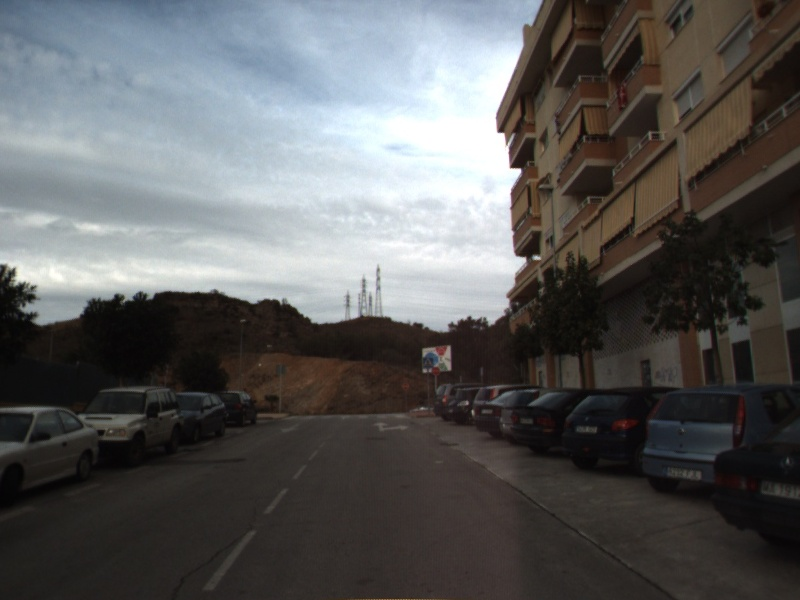STRAIGHT_RIGHT: (370, 420, 411, 434)
